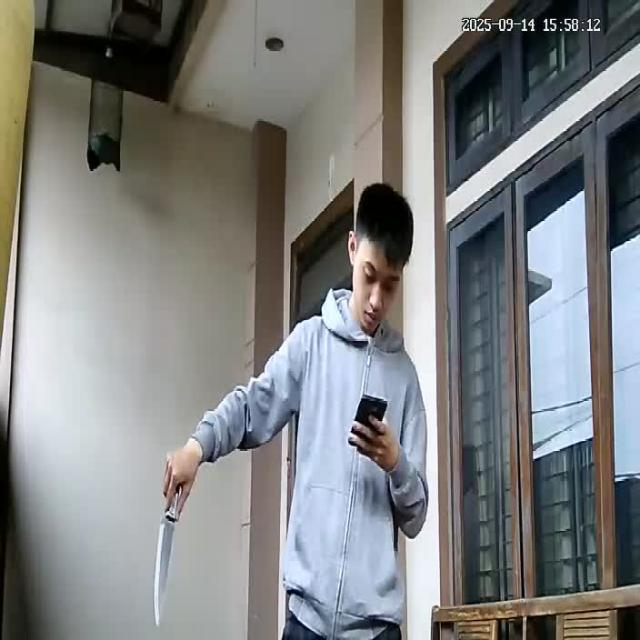senjata_tajam: (152, 510, 179, 628)
